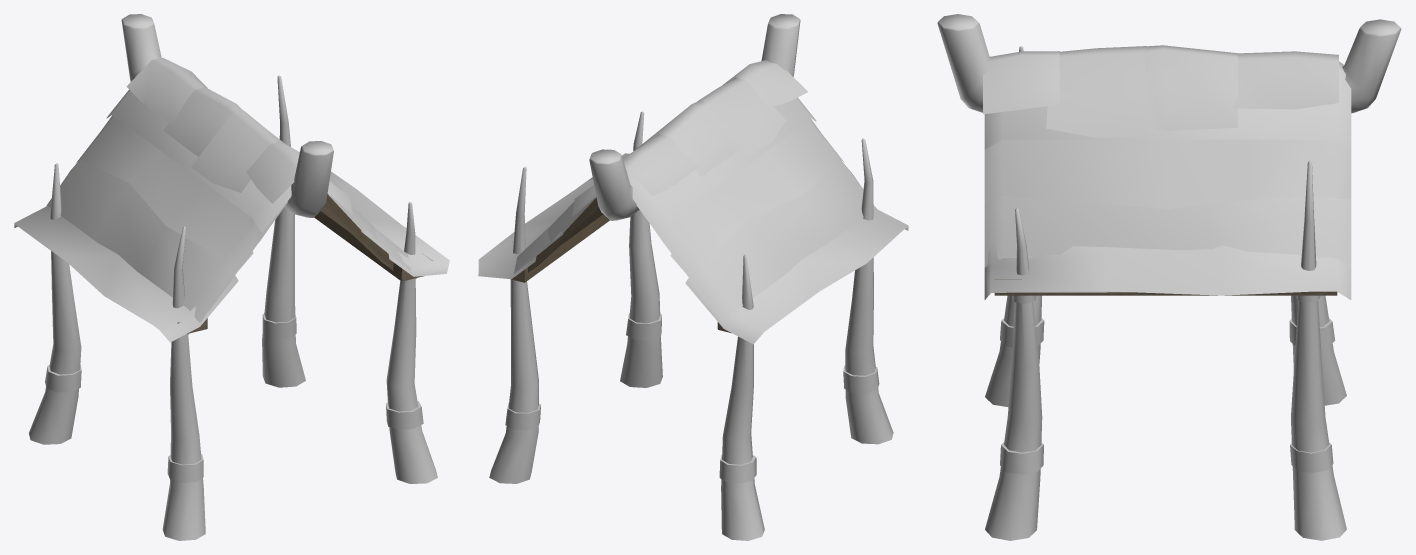
Rendered from Area_Common_Build_Hili_House_02_Lod0.fbx.
3 views of the same model, side by side, from view 1: azimuth 30°, elevation 25°; view 2: azimuth 150°, elevation 25°; view 3: azimuth 270°, elevation 25° (orthographic). The views are drawn at different scales.
Visible parts, largest first — view 1: Area_Common_Build_Hili_House_02_Lod0; view 2: Area_Common_Build_Hili_House_02_Lod0; view 3: Area_Common_Build_Hili_House_02_Lod0.
Boxes of the visible parts, left/top/right/bottom form: Area_Common_Build_Hili_House_02_Lod0: left=14, top=14, right=449, bottom=540; Area_Common_Build_Hili_House_02_Lod0: left=478, top=14, right=908, bottom=540; Area_Common_Build_Hili_House_02_Lod0: left=937, top=14, right=1401, bottom=540.
Size of the model in its own units: 3.31 by 3.96 by 3.8.
